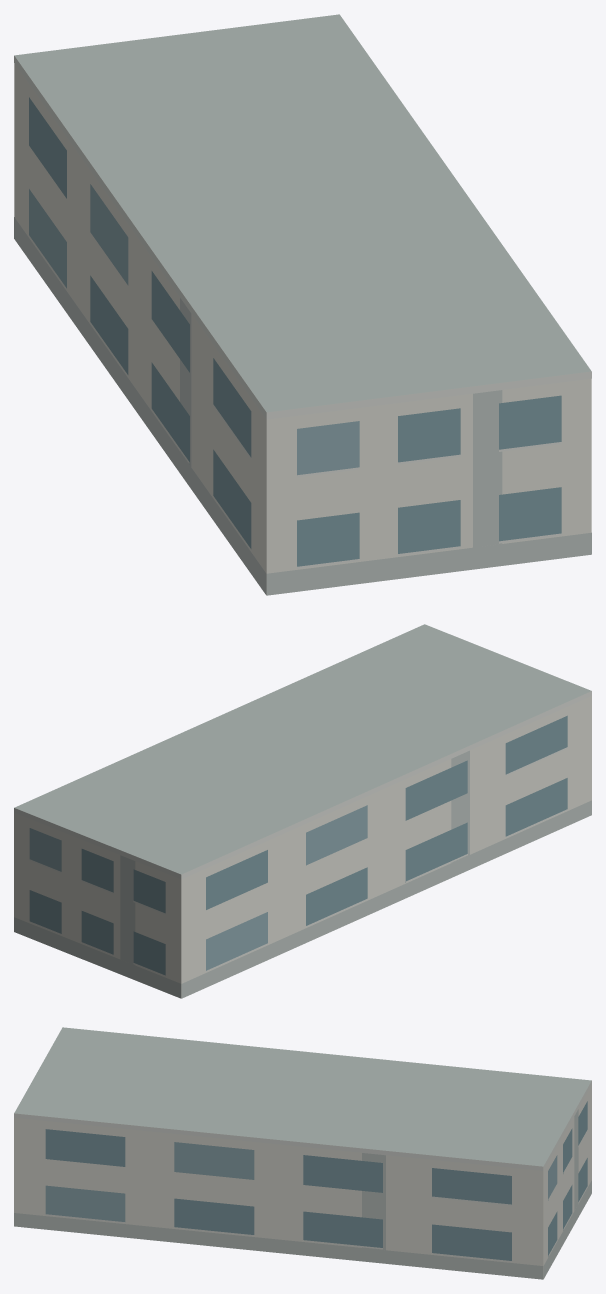
File: residential-213e20a6-b7c2-42a2-9de8-ea14103ed492.glb
The picture shows the model from 3 angles, top to bottom: view 1: azimuth 30°, elevation 25°; view 2: azimuth 150°, elevation 25°; view 3: azimuth 270°, elevation 25°; orthographic projection. The views are drawn at different scales.
Visible parts, largest first — view 1: residential-213e20a6-b7c2-42a2-9de8-ea14103ed492.tmp; view 2: residential-213e20a6-b7c2-42a2-9de8-ea14103ed492.tmp; view 3: residential-213e20a6-b7c2-42a2-9de8-ea14103ed492.tmp.
Boxes of the visible parts, box(x1,y1,x2,y2) form: residential-213e20a6-b7c2-42a2-9de8-ea14103ed492.tmp: box(14, 14, 591, 595); residential-213e20a6-b7c2-42a2-9de8-ea14103ed492.tmp: box(14, 624, 591, 998); residential-213e20a6-b7c2-42a2-9de8-ea14103ed492.tmp: box(14, 1027, 591, 1279).
Size of the model in its own units: 16.14 by 6.1 by 28.28.
